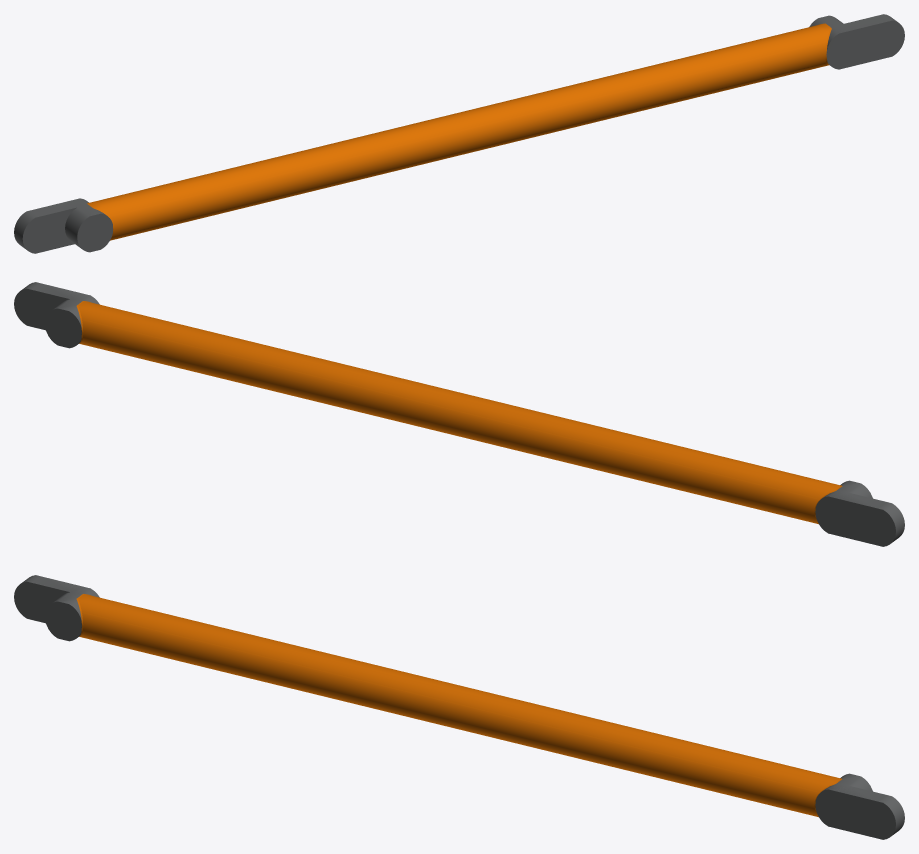
3 views of the same model, one above another, from view 1: azimuth 30°, elevation 25°; view 2: azimuth 150°, elevation 25°; view 3: azimuth 330°, elevation 25° (orthographic). The views are drawn at different scales.
Visible parts, largest first — view 1: h4_LOD0, h4_col; view 2: h4_LOD0, h4_col; view 3: h4_LOD0, h4_col.
Part boxes in pixels (box(x1,y1,x2,y2)): h4_LOD0: box(14, 14, 904, 253); h4_col: box(24, 14, 904, 251); h4_LOD0: box(14, 282, 904, 546); h4_col: box(15, 282, 895, 546); h4_LOD0: box(14, 575, 904, 839); h4_col: box(14, 577, 895, 838).
Size of what is drawn, in the model's own units: 288 by 11.93 by 12.
